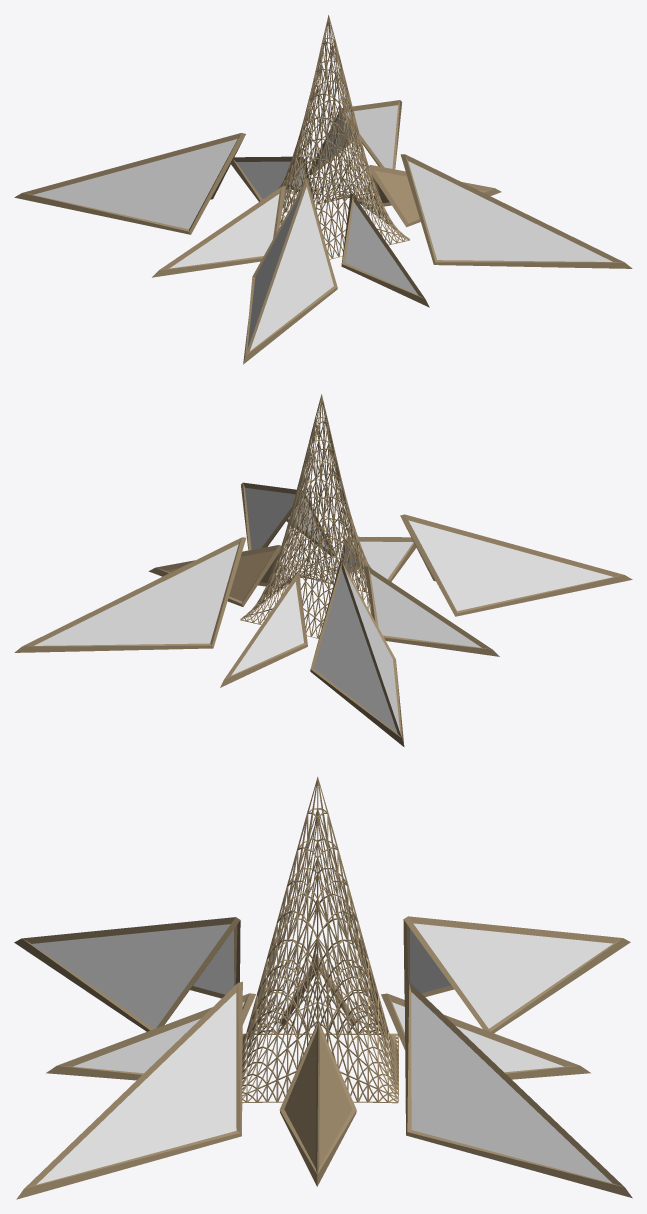
Rendered from dik ançt.fbx.
3 renders of one model, top to bottom at view 1: azimuth 30°, elevation 25°; view 2: azimuth 150°, elevation 25°; view 3: azimuth 270°, elevation 25°, orthographic. The views are drawn at different scales.
Parts seen in each view (by area): view 1: Plane.001; view 2: Plane.001; view 3: Plane.001.
Boxes of the visible parts, bbox=[...] form: Plane.001: bbox=[14, 15, 632, 364]; Plane.001: bbox=[14, 394, 632, 746]; Plane.001: bbox=[14, 776, 632, 1199].
Bounding box in the file's own units: 1172 × 630 × 1190.
